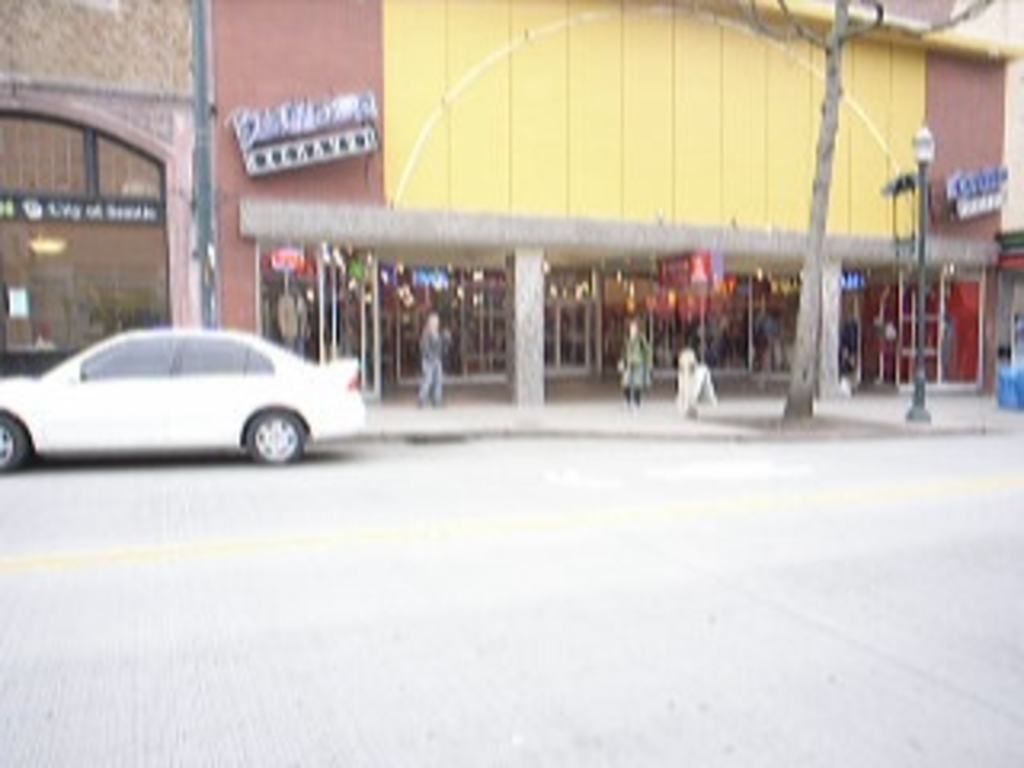Car: (0, 320, 374, 473)
